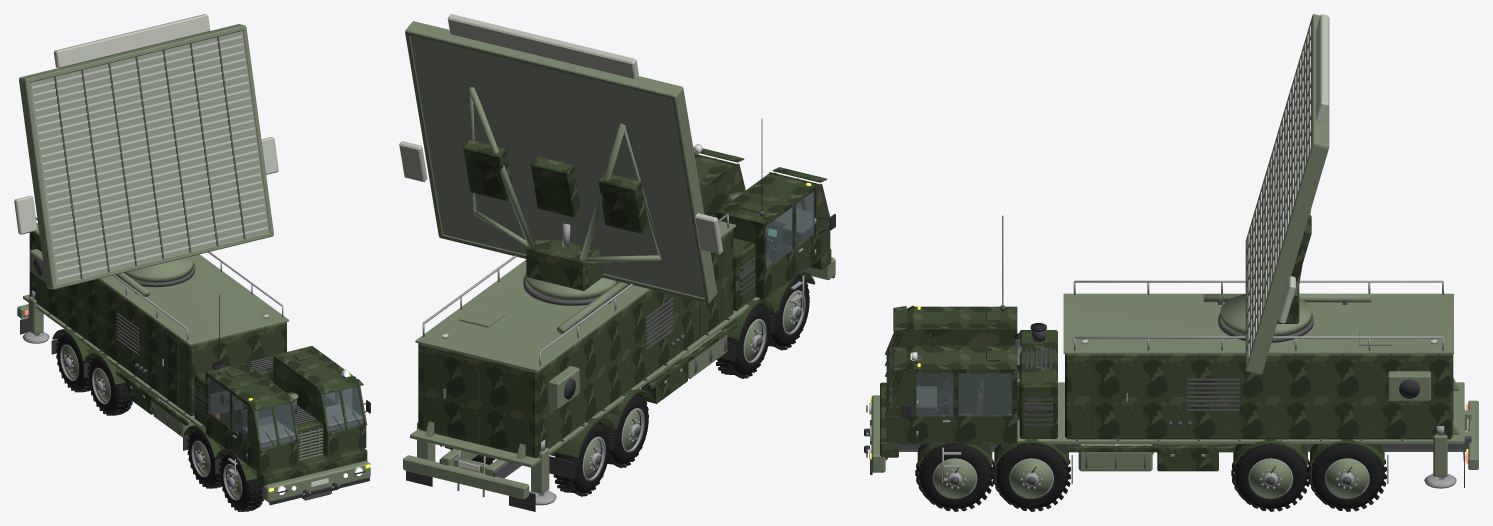
File: radar_mobile.glb
The picture shows the model from 3 angles, left to right: view 1: azimuth 30°, elevation 25°; view 2: azimuth 150°, elevation 25°; view 3: azimuth 270°, elevation 25°; orthographic projection. The views are drawn at different scales.
Visible parts, largest first — view 1: radar_yaw_geo, RADAR_body_geo, wheel_5_geo, wheel_1_geo, wheel_7_geo, wheel_3_geo; view 2: radar_yaw_geo, RADAR_body_geo, wheel_7_geo, wheel_3_geo, wheel_5_geo, wheel_1_geo; view 3: RADAR_body_geo, radar_yaw_geo, wheel_4_geo, wheel_2_geo, wheel_6_geo, wheel_0_geo.
Boxes of the visible parts, x1,y1,x2,y2 form: radar_yaw_geo: (14, 14, 278, 289); RADAR_body_geo: (17, 217, 370, 505); wheel_5_geo: (87, 355, 132, 415); wheel_1_geo: (219, 451, 263, 511); wheel_7_geo: (55, 331, 90, 392); wheel_3_geo: (187, 427, 221, 488); radar_yaw_geo: (399, 14, 722, 303); RADAR_body_geo: (403, 119, 835, 511); wheel_7_geo: (553, 421, 609, 496); wheel_3_geo: (716, 303, 770, 378); wheel_5_geo: (606, 393, 648, 468); wheel_1_geo: (767, 275, 809, 350); RADAR_body_geo: (864, 215, 1478, 487); radar_yaw_geo: (1220, 14, 1329, 374); wheel_4_geo: (1231, 444, 1310, 511); wheel_2_geo: (992, 444, 1070, 511); wheel_6_geo: (1307, 444, 1386, 511); wheel_0_geo: (915, 444, 994, 511).
Bounding box in the file's own units: 7.5 × 9.8 × 12.85.
24 materials, 2 textured.
